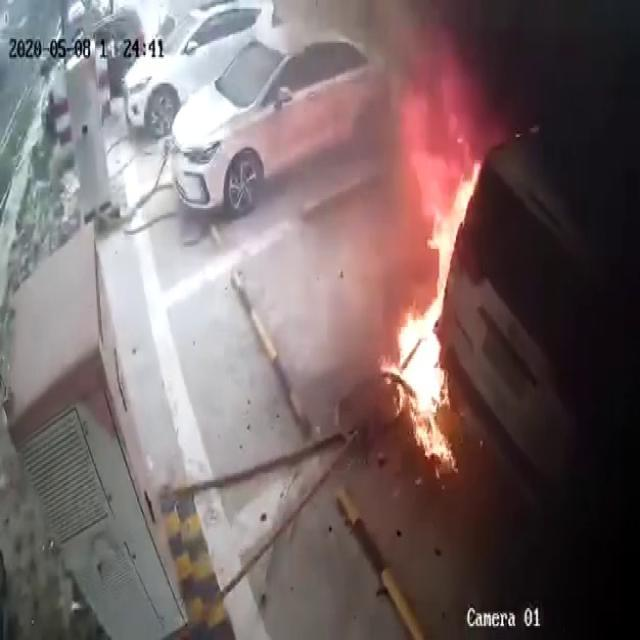Fire: (374, 118, 486, 463)
